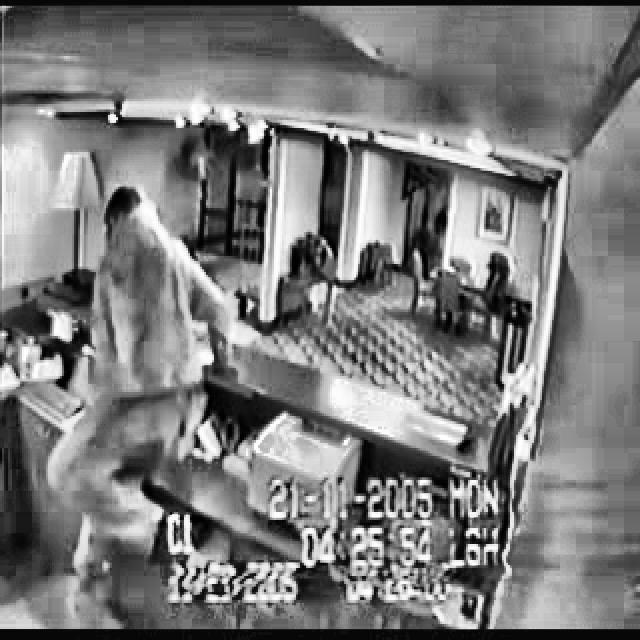Weapon: (58, 115, 298, 640)
